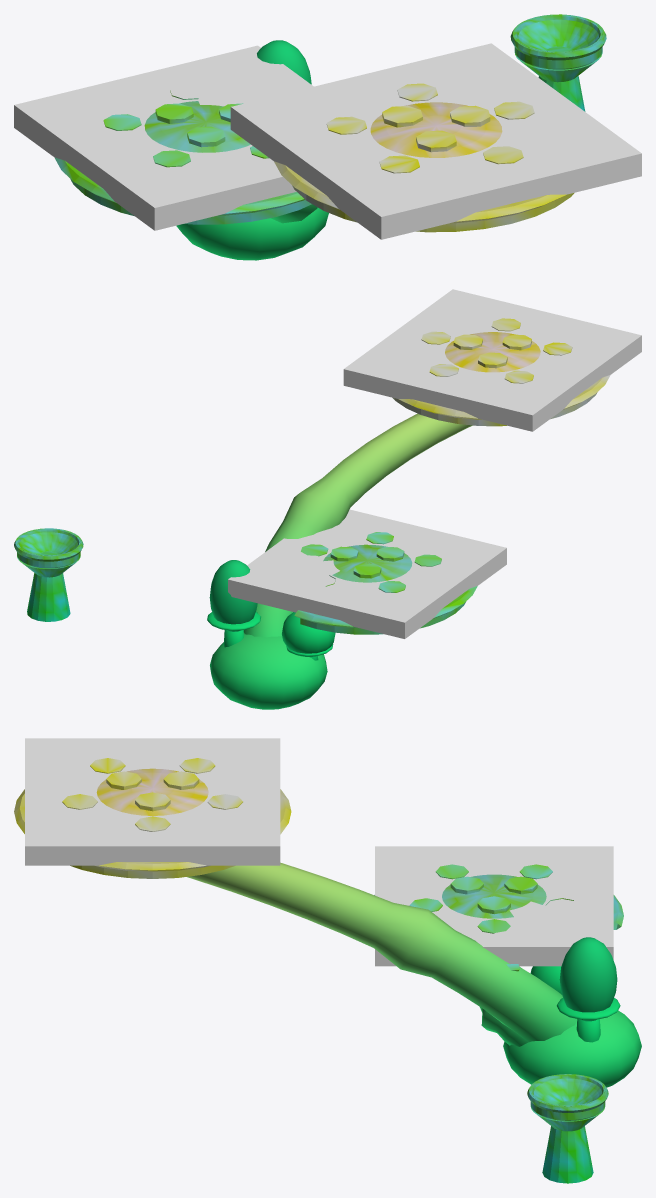
Rendered from Plant_Platform_05.fbx.
3 views of the same model, one above another, from view 1: azimuth 30°, elevation 25°; view 2: azimuth 150°, elevation 25°; view 3: azimuth 270°, elevation 25° (orthographic). The views are drawn at different scales.
Visible parts, largest first — view 1: COL_05_1, Plant_Platform_05, COL_05_0; view 2: Plant_Platform_05, COL_05_1, COL_05_0; view 3: Plant_Platform_05, COL_05_1, COL_05_0.
Boxes of the visible parts, x1,y1,x2,y2 form: COL_05_1: (230, 43, 641, 239); Plant_Platform_05: (55, 14, 606, 260); COL_05_0: (14, 45, 313, 230); Plant_Platform_05: (14, 318, 610, 709); COL_05_1: (343, 289, 641, 431); COL_05_0: (228, 509, 506, 638); Plant_Platform_05: (14, 758, 641, 1183); COL_05_1: (25, 738, 280, 865); COL_05_0: (375, 846, 613, 966).
Bounding box in the file's own units: 5.23 × 2.83 × 5.88.
